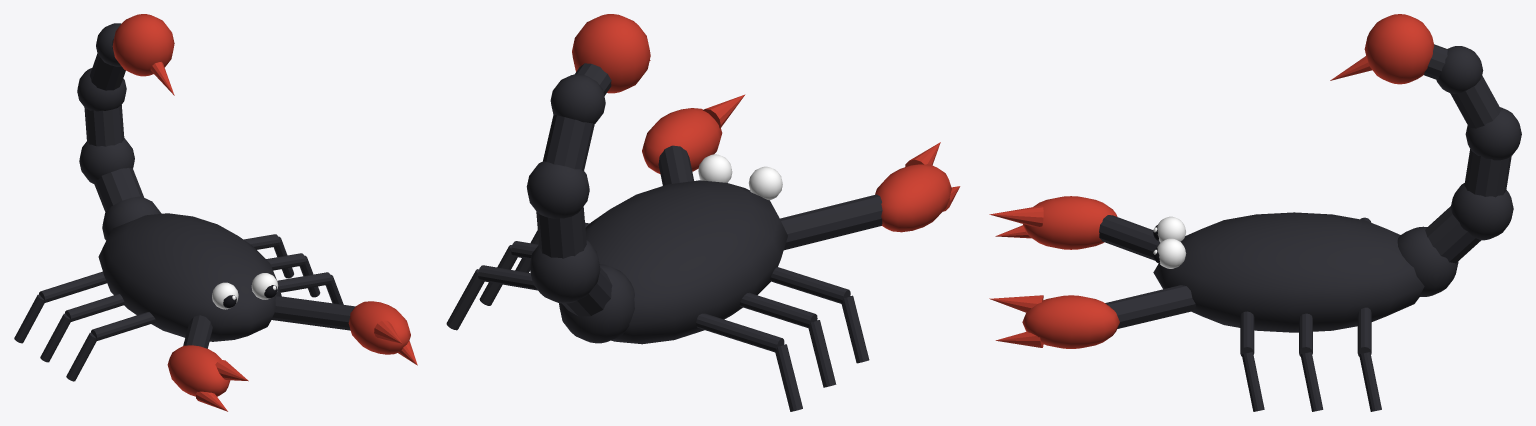
3 renders of one model, left to right at view 1: azimuth 30°, elevation 25°; view 2: azimuth 150°, elevation 25°; view 3: azimuth 270°, elevation 25°, orthographic. The views are drawn at different scales.
Visible parts, largest first — view 1: Scorpion; view 2: Scorpion; view 3: Scorpion.
Part boxes in pixels (bbox=[...]): Scorpion: bbox=[14, 14, 417, 411]; Scorpion: bbox=[446, 14, 960, 411]; Scorpion: bbox=[989, 14, 1521, 411].
Bounding box in the file's own units: 3.09 × 3.02 × 4.54.
Materials: 1 (1 with a texture image).
